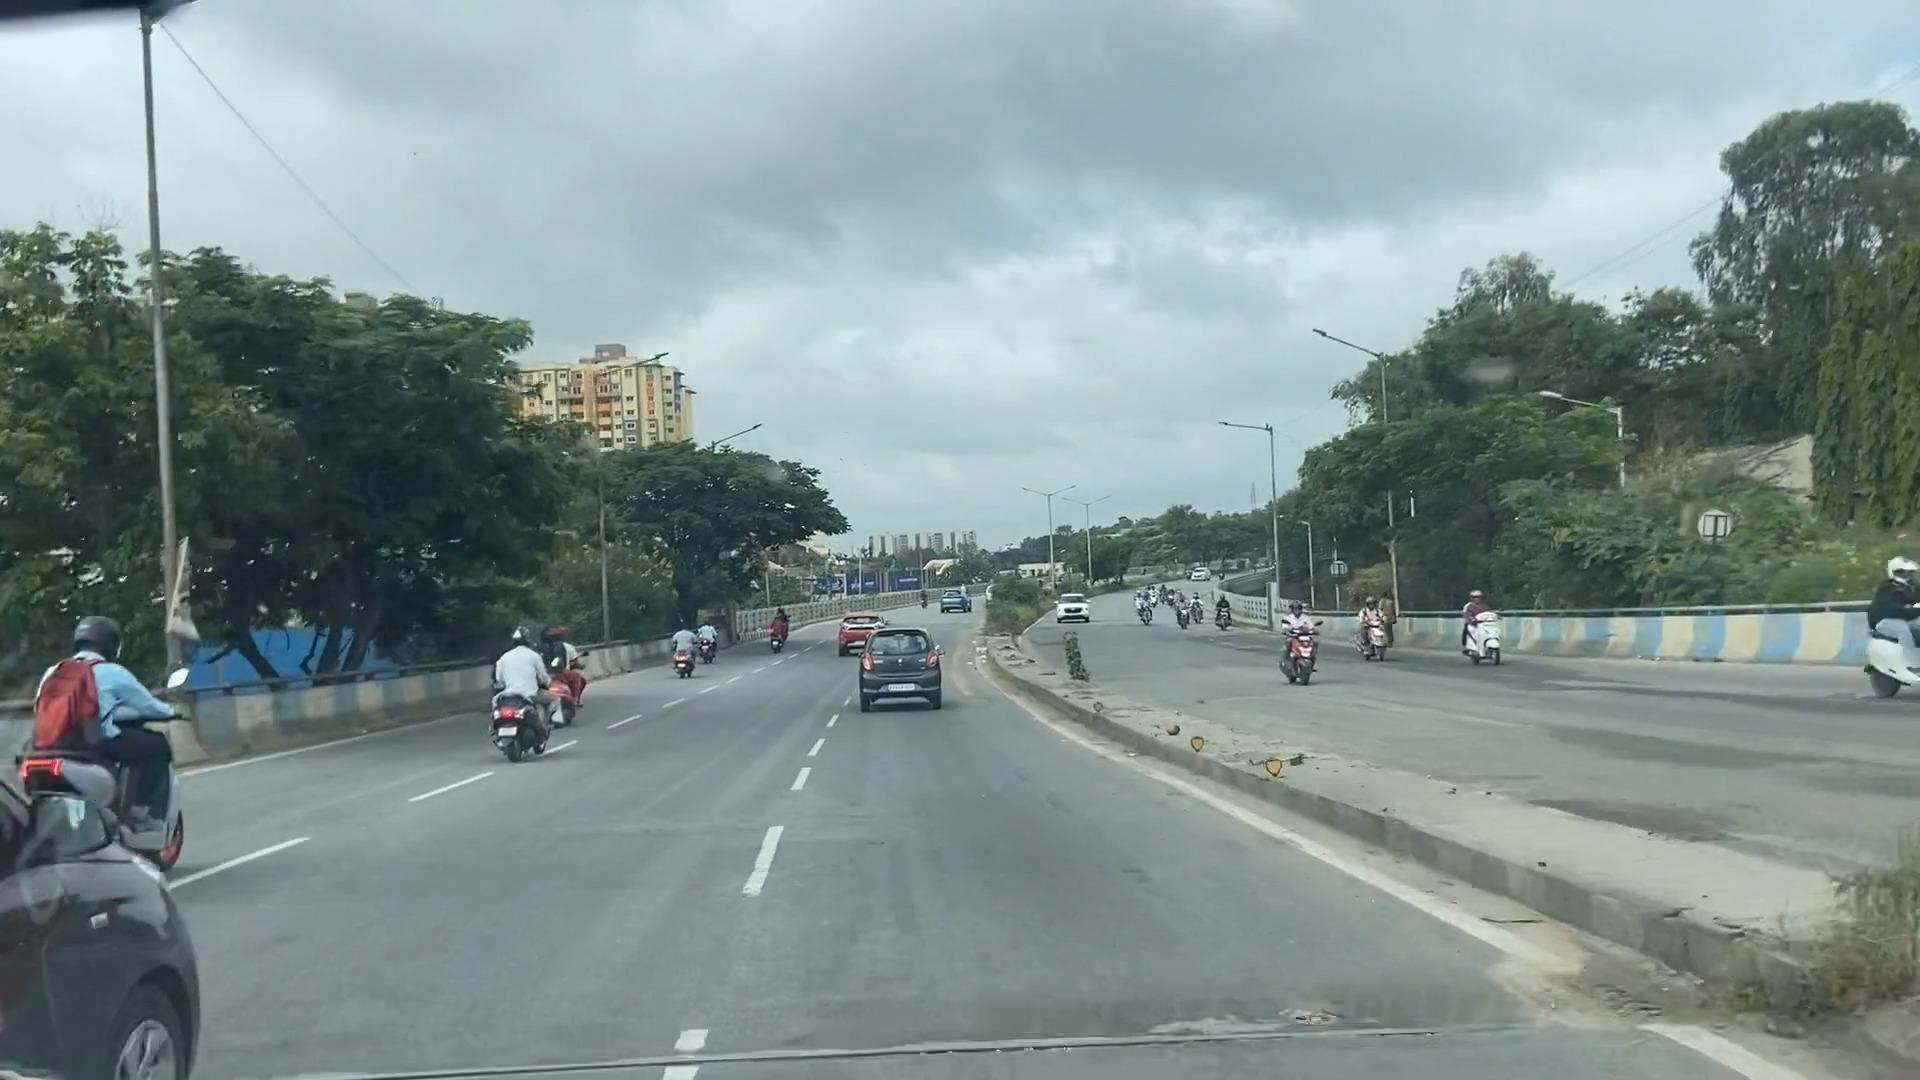LMV: (40, 618, 168, 791), (490, 630, 544, 747), (864, 626, 927, 699)
UnsurfacedRoad: (810, 1012, 1625, 1056)
